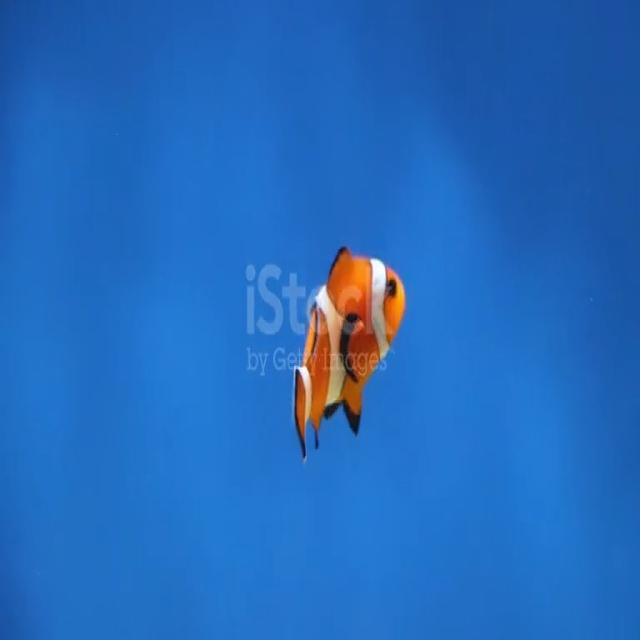fish: (286, 243, 407, 465)
